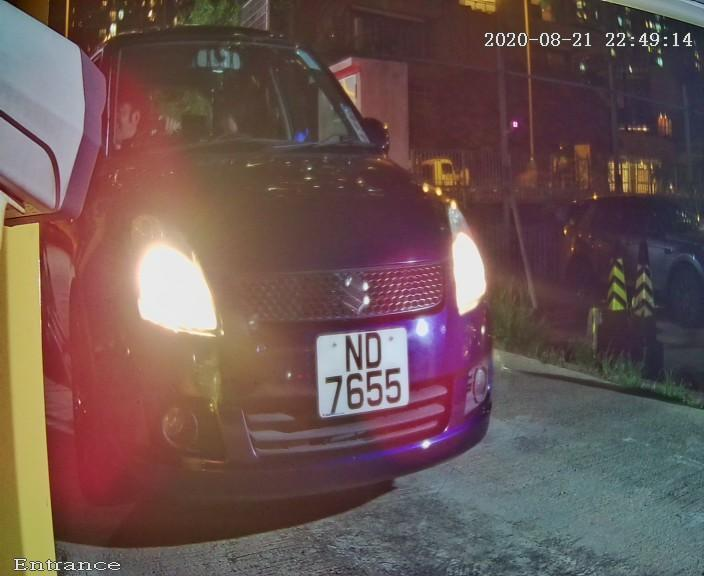Car: (1, 8, 563, 551)
License Plate: (305, 319, 418, 427)
